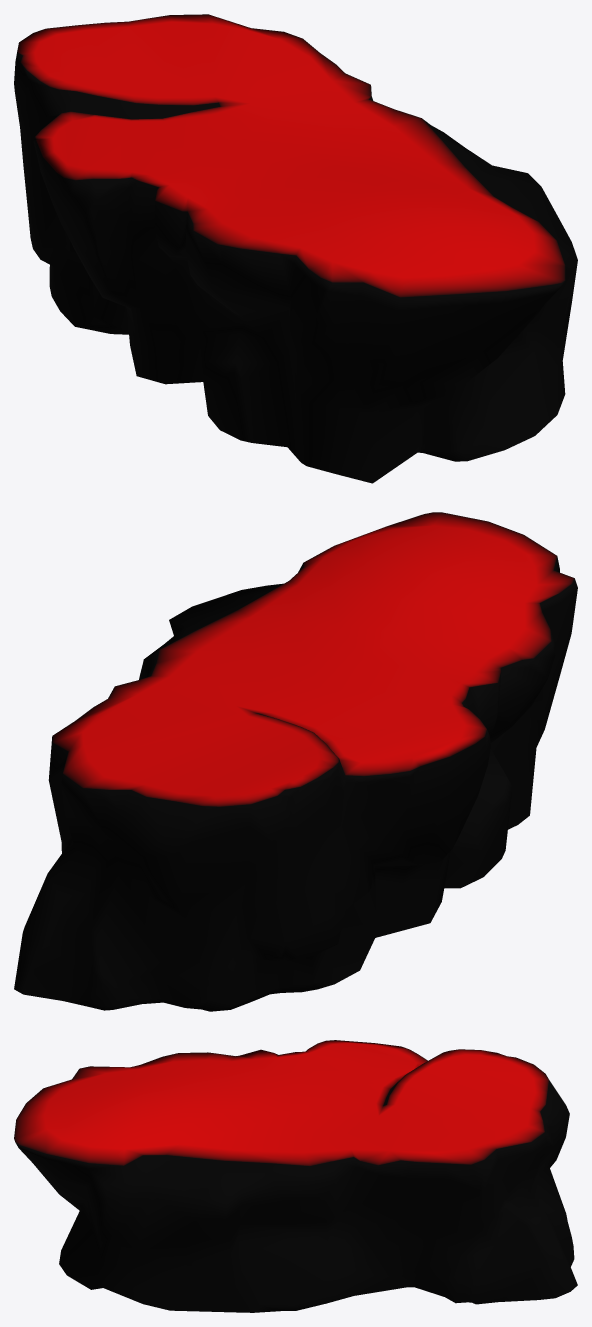
File: Shitou_hill_05.fbx
3 views of the same model, one above another, from view 1: azimuth 30°, elevation 25°; view 2: azimuth 150°, elevation 25°; view 3: azimuth 270°, elevation 25° (orthographic). The views are drawn at different scales.
Visible parts, largest first — view 1: Shitou_hill_05_LOD0; view 2: Shitou_hill_05_LOD0; view 3: Shitou_hill_05_LOD0.
Part boxes in pixels (x1=…): Shitou_hill_05_LOD0: x1=14, y1=14, x2=577, y2=483; Shitou_hill_05_LOD0: x1=14, y1=512, x2=577, y2=1011; Shitou_hill_05_LOD0: x1=14, y1=1040, x2=577, y2=1312.
Bounding box in the file's own units: 369 × 215 × 648.
